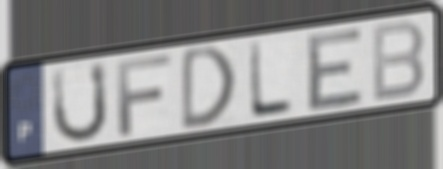B: (369, 17, 427, 106)
D: (178, 41, 238, 135)
E: (305, 23, 366, 114)
F: (114, 51, 174, 140)
L: (247, 38, 296, 121)
U: (50, 58, 111, 147)
